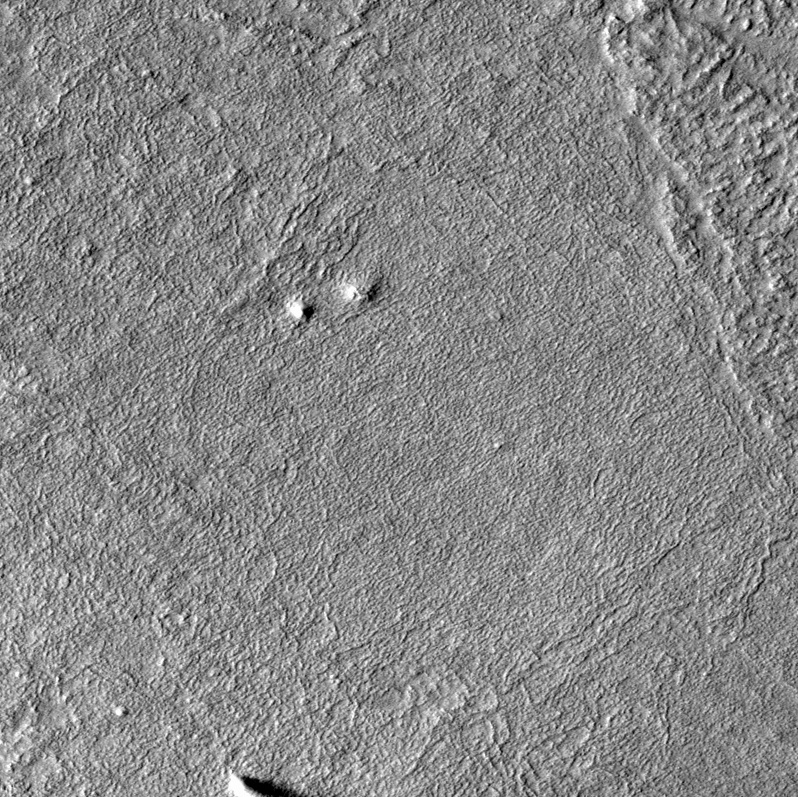dust_devil: (226, 769, 312, 797)
